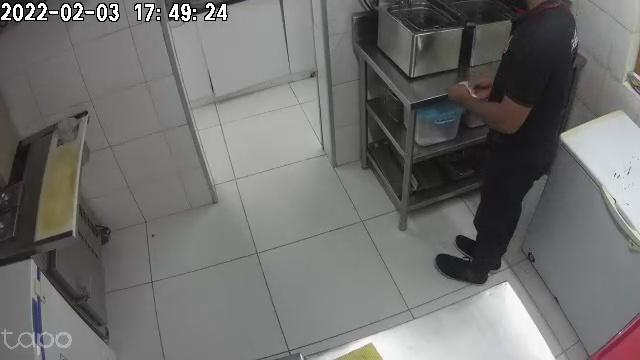no_gloves: (449, 86, 488, 114)
